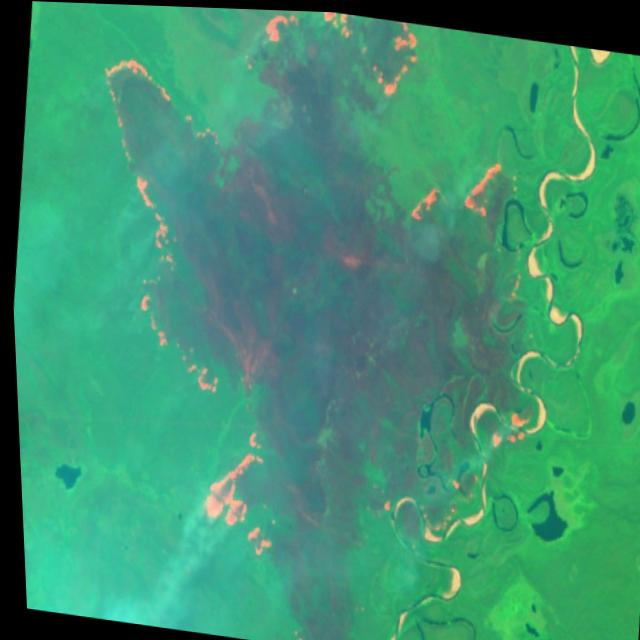fire: (70, 36, 262, 276), (241, 7, 464, 112), (392, 141, 537, 248), (113, 269, 233, 396), (186, 415, 279, 563), (324, 234, 369, 277)
